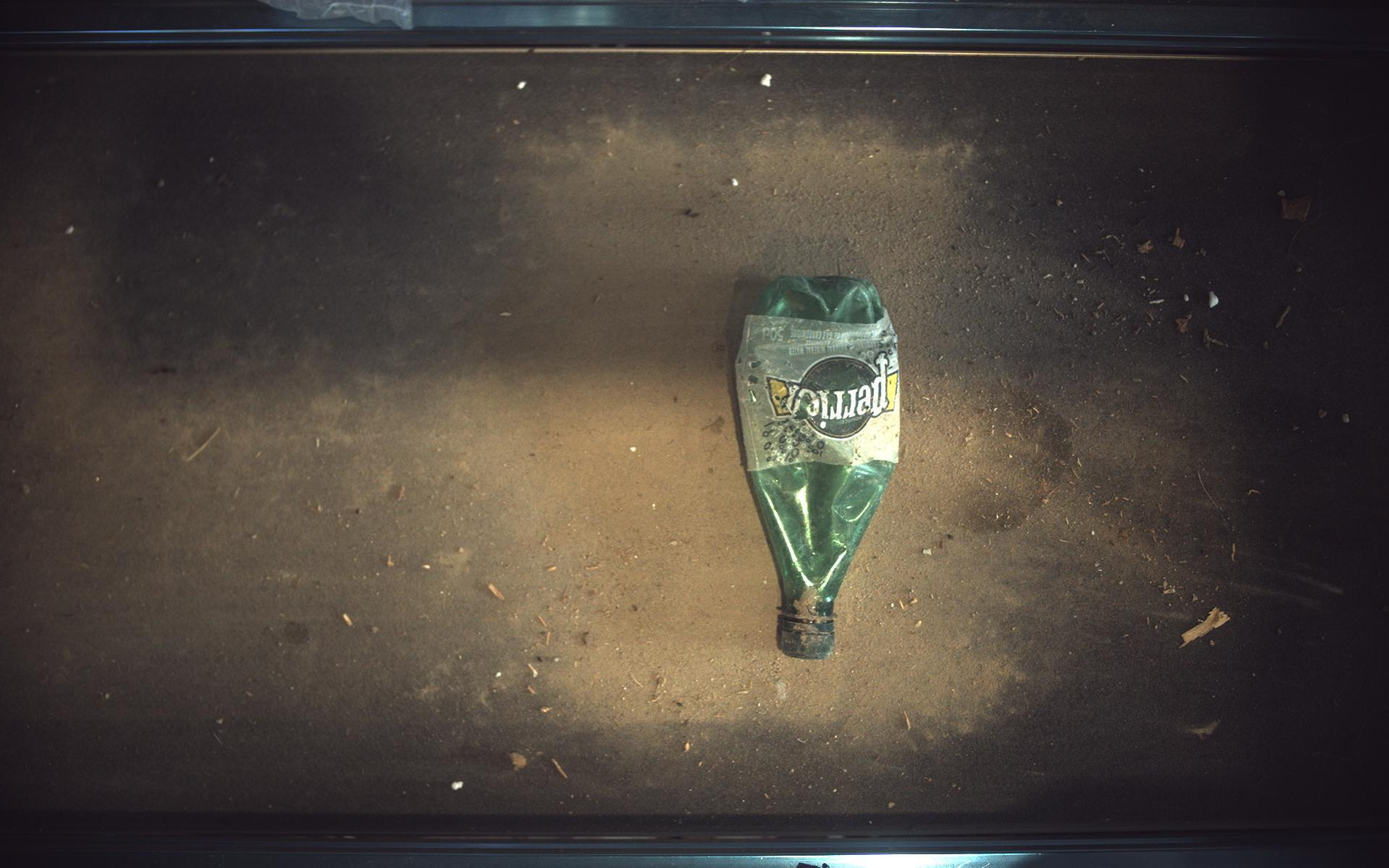general_w: (736, 275, 901, 660)
